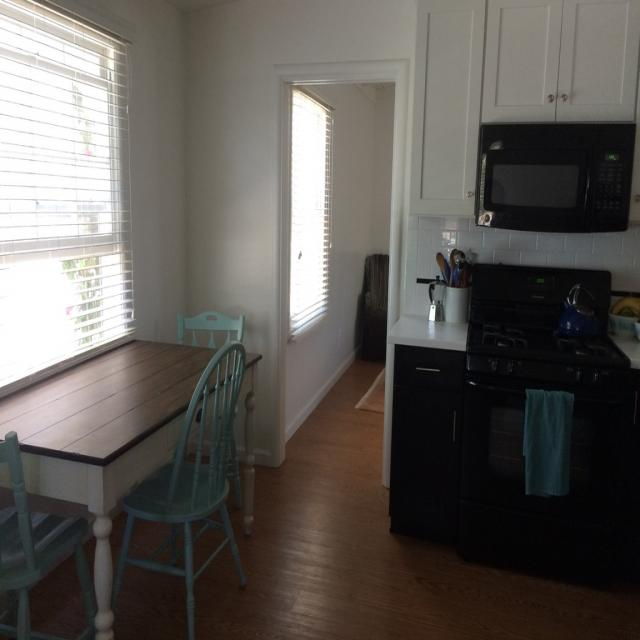chair: (111, 342, 248, 638), (1, 432, 98, 639), (176, 309, 246, 349)
desk: (9, 318, 249, 626)
